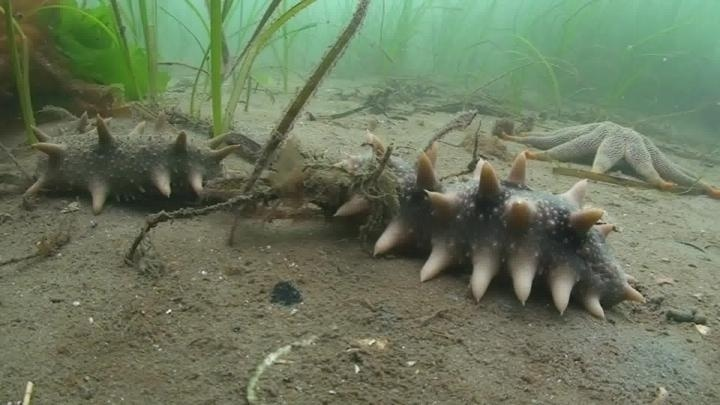holothurian: (321, 141, 650, 324), (22, 111, 238, 219)
scallop: (529, 115, 716, 196)
